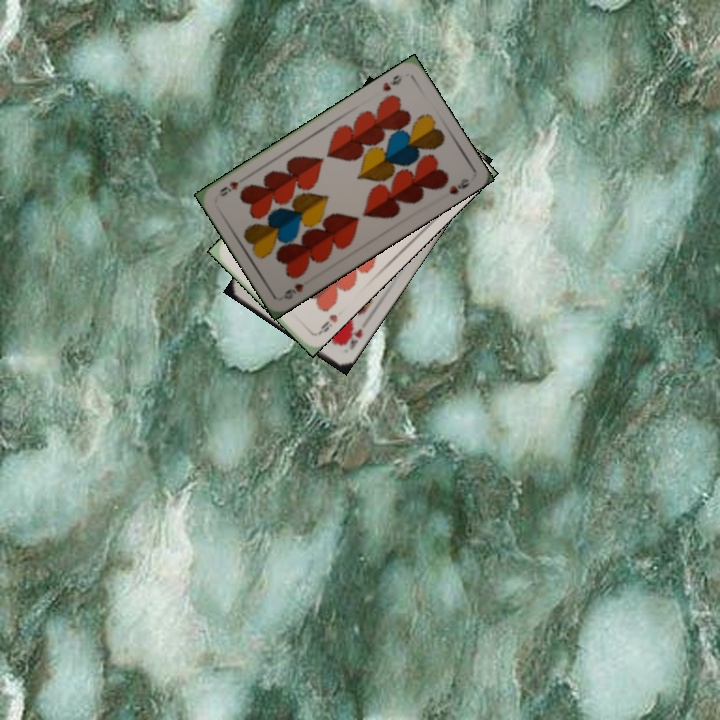H9: (311, 310, 340, 338), (378, 70, 405, 94), (280, 279, 306, 302)
HK: (337, 323, 365, 353)
